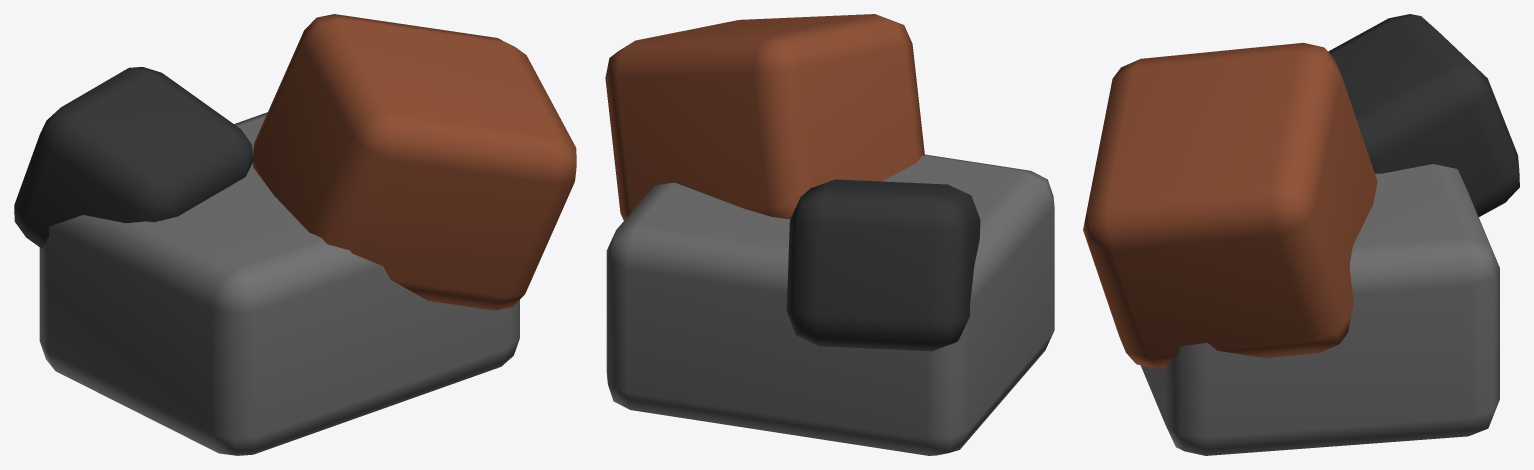
File: loose-scrap.glb
3 views of the same model, side by side, from view 1: azimuth 30°, elevation 25°; view 2: azimuth 150°, elevation 25°; view 3: azimuth 270°, elevation 25° (orthographic). The views are drawn at different scales.
Visible parts, largest first — view 1: loose-scrap; view 2: loose-scrap; view 3: loose-scrap.
Boxes of the visible parts, x1,y1,x2,y2 form: loose-scrap: (14, 14, 576, 455); loose-scrap: (605, 14, 1054, 455); loose-scrap: (1083, 14, 1519, 455).
Bounding box in the file's own units: 0.4297 × 0.3223 × 0.3602.
